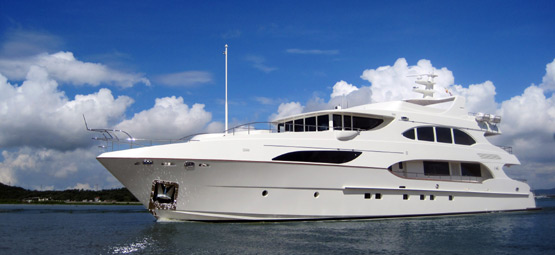yacht: (95, 63, 537, 220)
